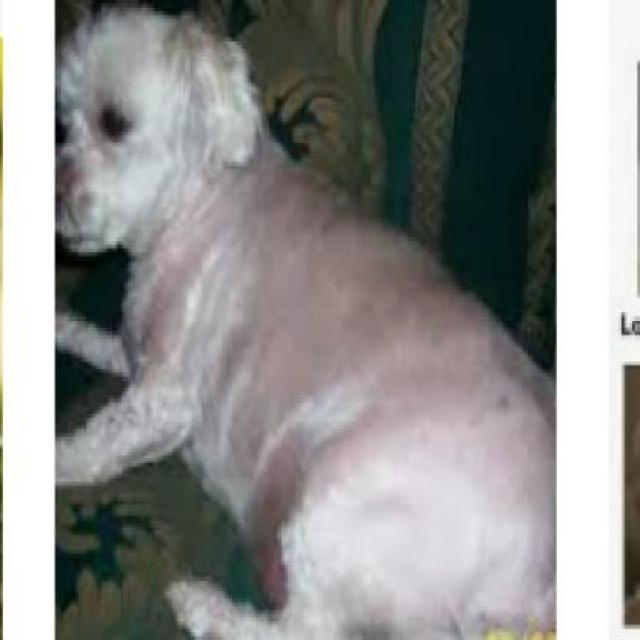Dog: (55, 0, 554, 637)
